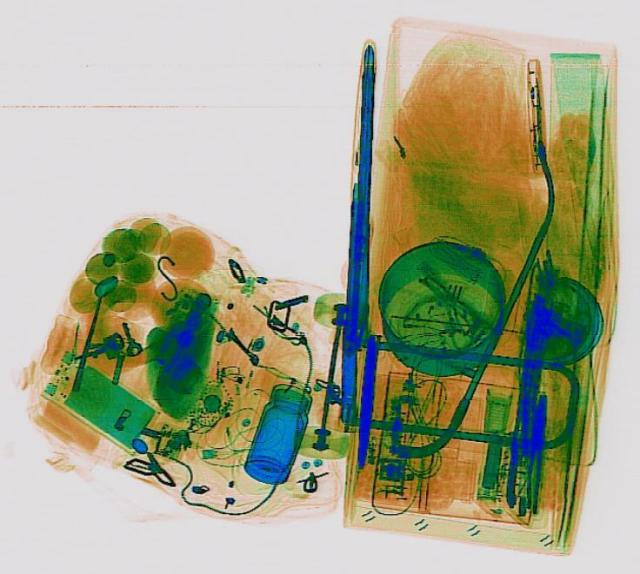Pliers: (523, 393, 549, 512)
